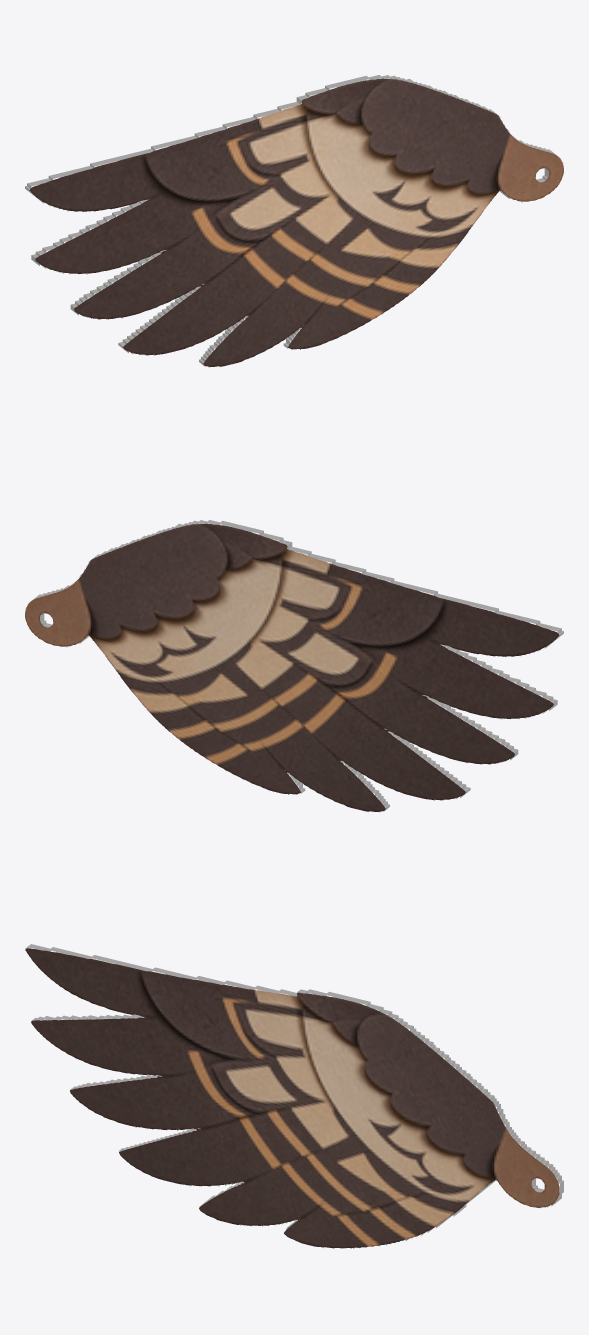
Rendered from FanLeft.glb.
3 renders of one model, top to bottom at view 1: azimuth 30°, elevation 25°; view 2: azimuth 150°, elevation 25°; view 3: azimuth 330°, elevation 25°, orthographic.
Visible parts, largest first — view 1: PaperVolume; view 2: PaperVolume; view 3: PaperVolume.
Boxes of the visible parts, x1,y1,x2,y2 form: PaperVolume: (25,75,563,367); PaperVolume: (25,520,563,812); PaperVolume: (25,944,563,1248).
Size of the model in its own units: 6.14 by 2.92 by 0.08.
Materials: 3 (2 with a texture image).
